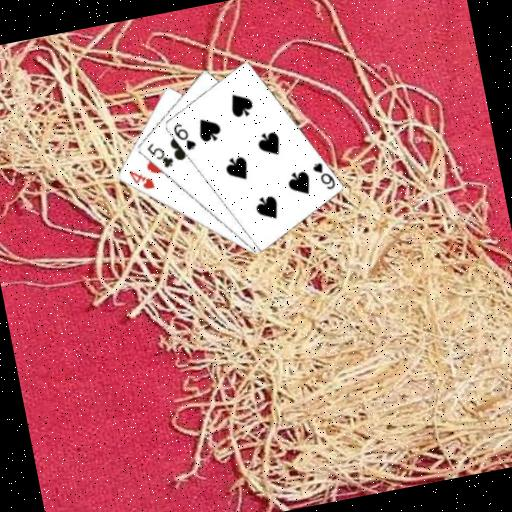4H: (125, 163, 157, 194)
5C: (142, 137, 176, 173)
6S: (169, 118, 199, 154), (308, 157, 337, 194)
